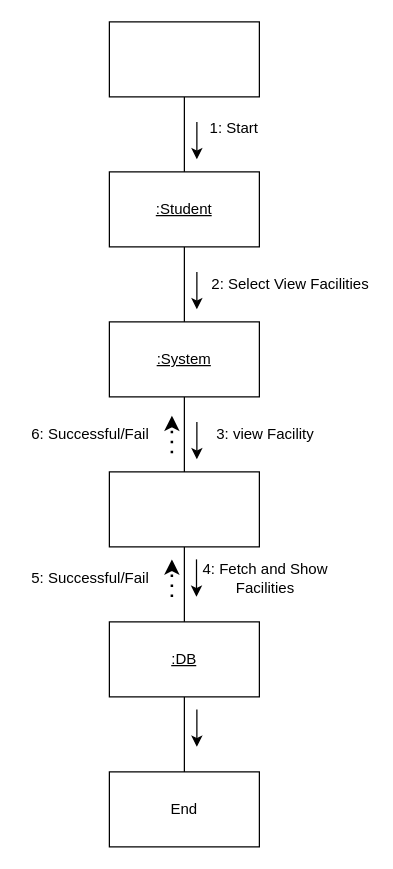
The diagram is 393 pixels wide and 869 high, and some of its shapes have lost their labels. The shapes that lost their labels are listed below. From the top down, each one's centre as x and y in pixels, then its label:
At point (183, 59): "Initialization".
At point (183, 509): ":Facility".
